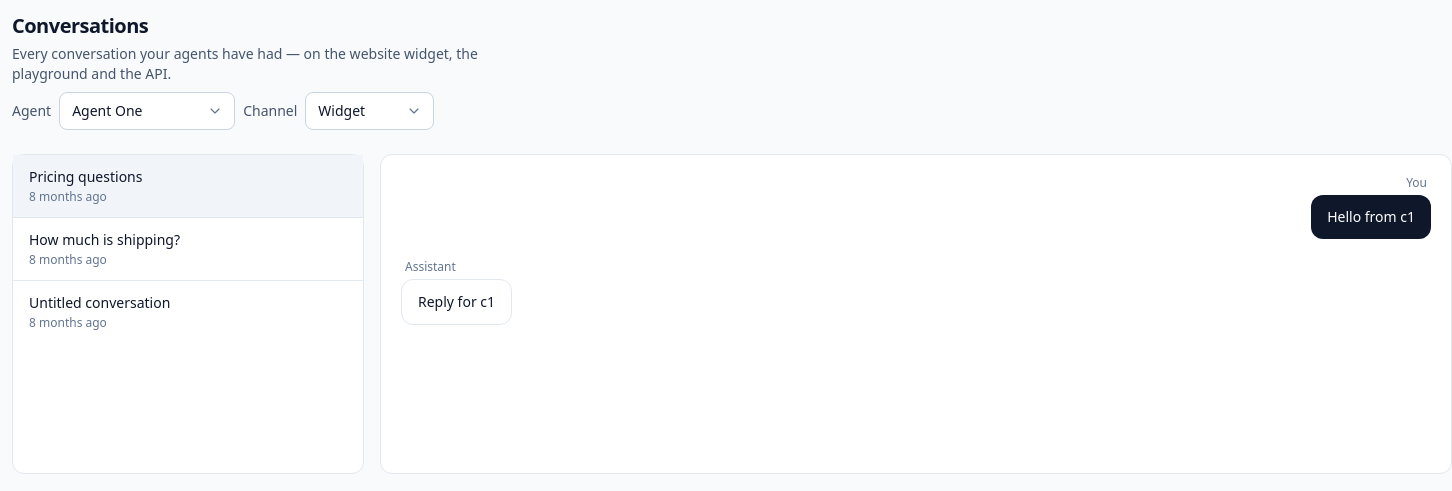
Test case: ConversationsPage › does not resurrect the URL's conversation once switching agents has cleared the selection
The width and height of the screenshot is (1452, 491).
Expected: the text "Reply for c1" is shown, [418,292,495,312]
Select "Agent Two" in the dropdown labelled "Agent" at [147, 111], box [59,92,235,130]
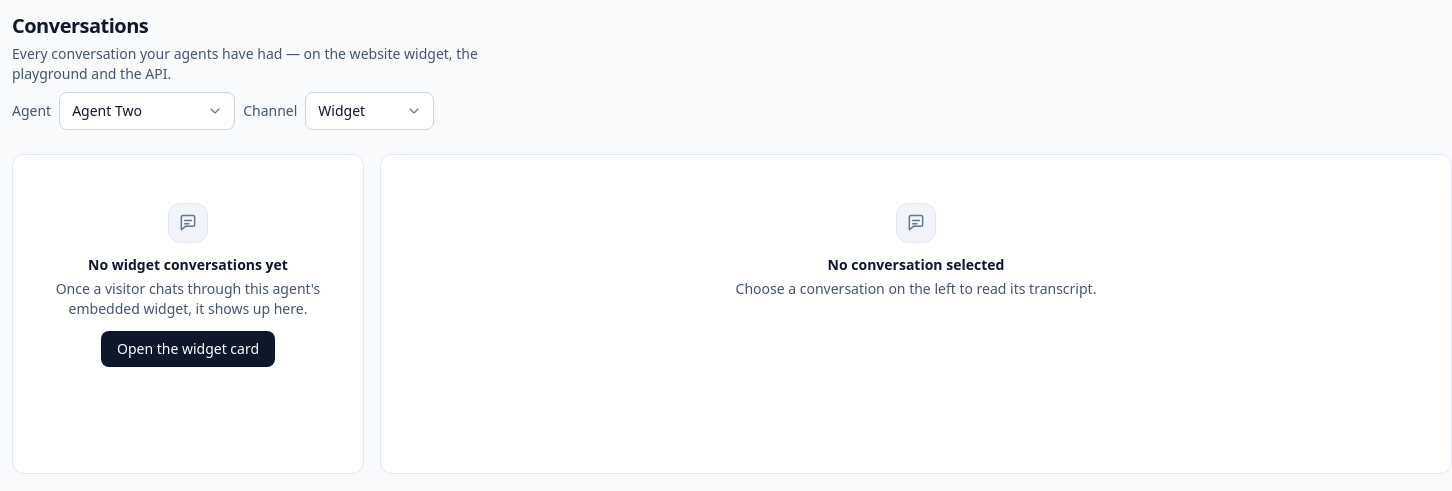
Result: the text "No conversation selected" is shown at [828,255,1004,274]
Result: the text "Reply for c1" is gone
